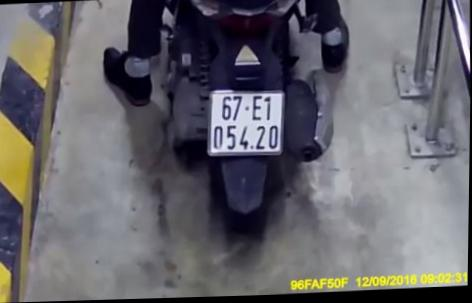LP: (206, 86, 287, 161)
